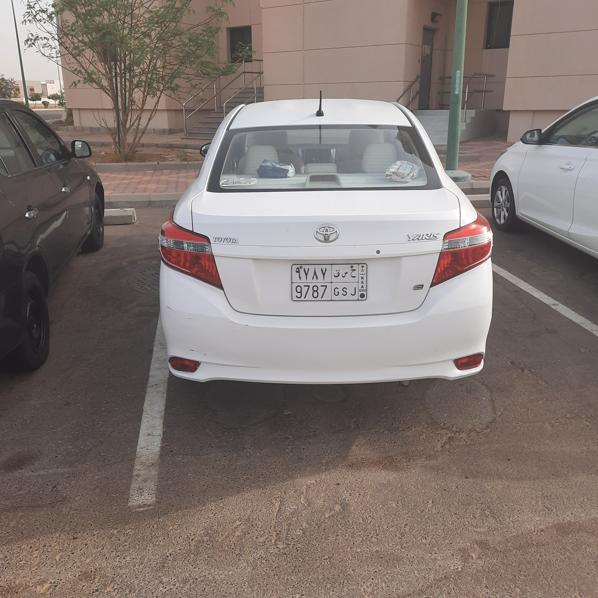numberplate: (291, 263, 368, 301)
